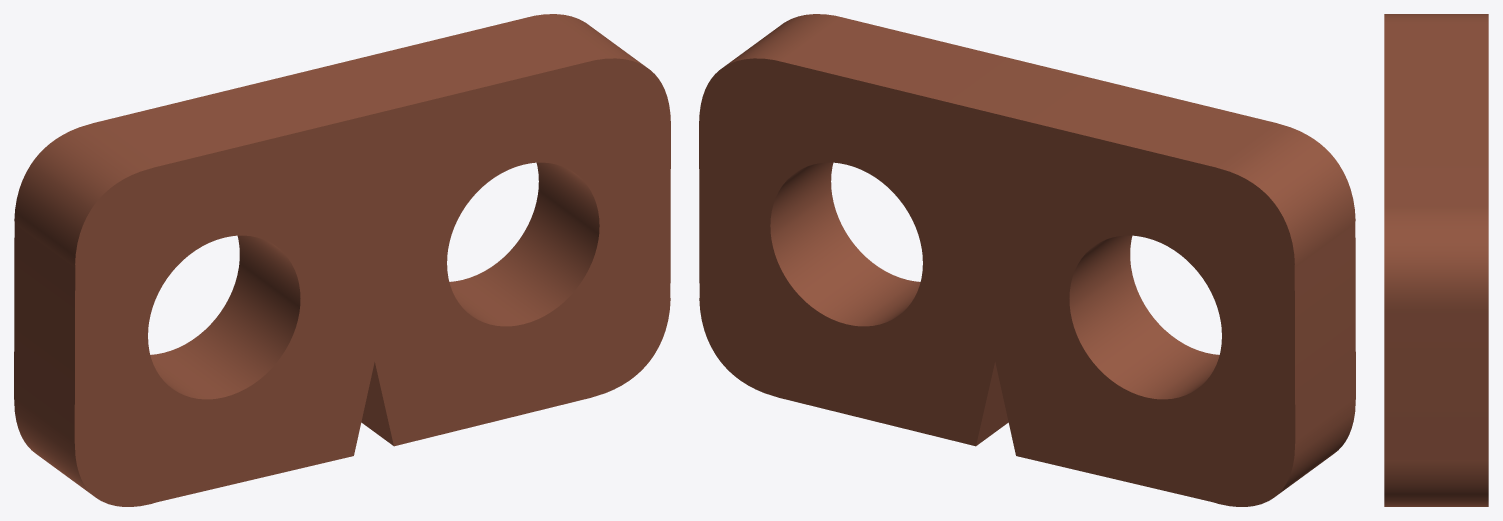
File: gogglesBoard.dae
3 renders of one model, left to right at view 1: azimuth 30°, elevation 25°; view 2: azimuth 150°, elevation 25°; view 3: azimuth 270°, elevation 25°, orthographic. The views are drawn at different scales.
Parts seen in each view (by area): view 1: VR_Goggles; view 2: VR_Goggles; view 3: VR_Goggles.
Part boxes in pixels (box(x1,y1,x2,y2)): VR_Goggles: box(14, 14, 670, 506); VR_Goggles: box(699, 14, 1355, 506); VR_Goggles: box(1384, 14, 1488, 506).
Size of the model in its own units: 57.52 by 31.1 by 10.14.
